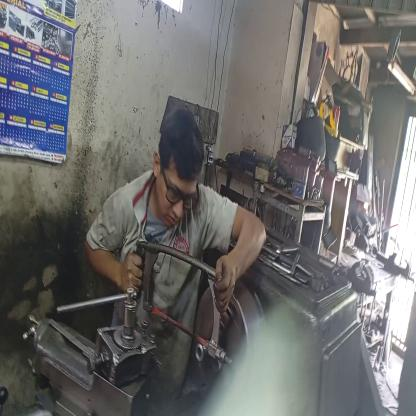lentes: (159, 163, 204, 213)
